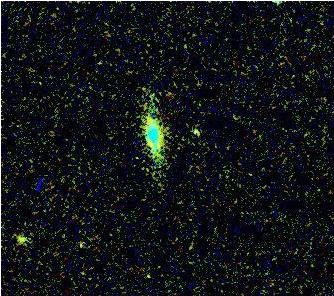star: (183, 115, 213, 145)
